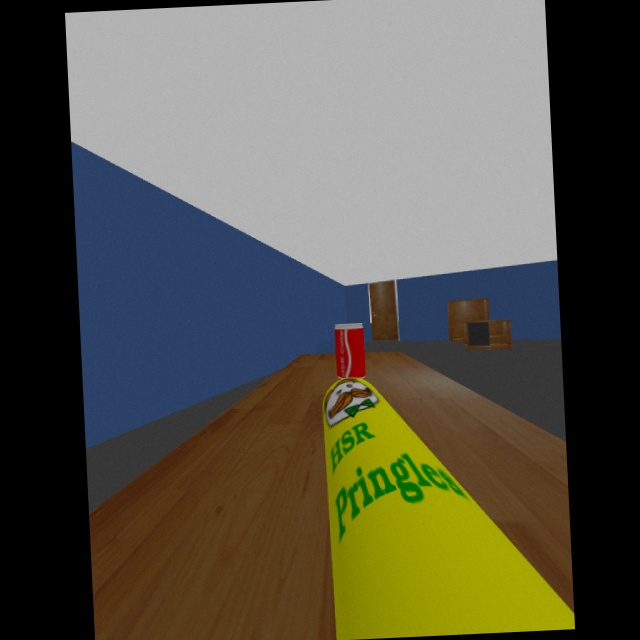chipsdose_gelb: (322, 377, 576, 640)
